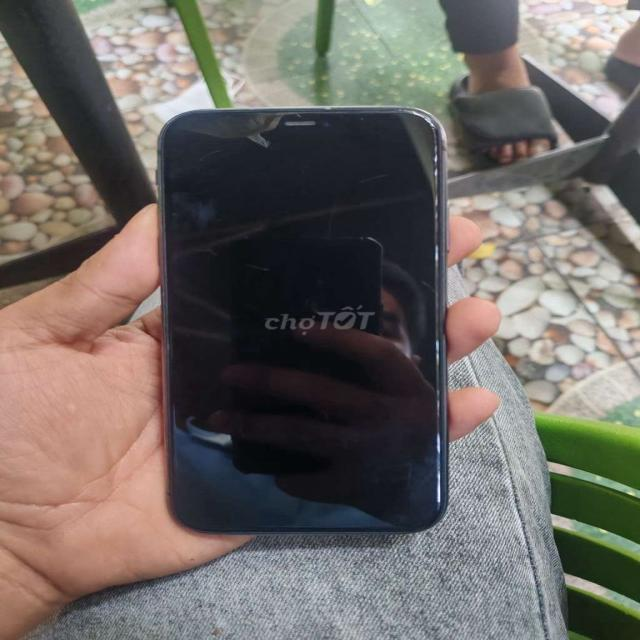gen_11: (125, 101, 456, 545)
scratch: (424, 140, 448, 513), (276, 106, 369, 126), (398, 106, 442, 130)
